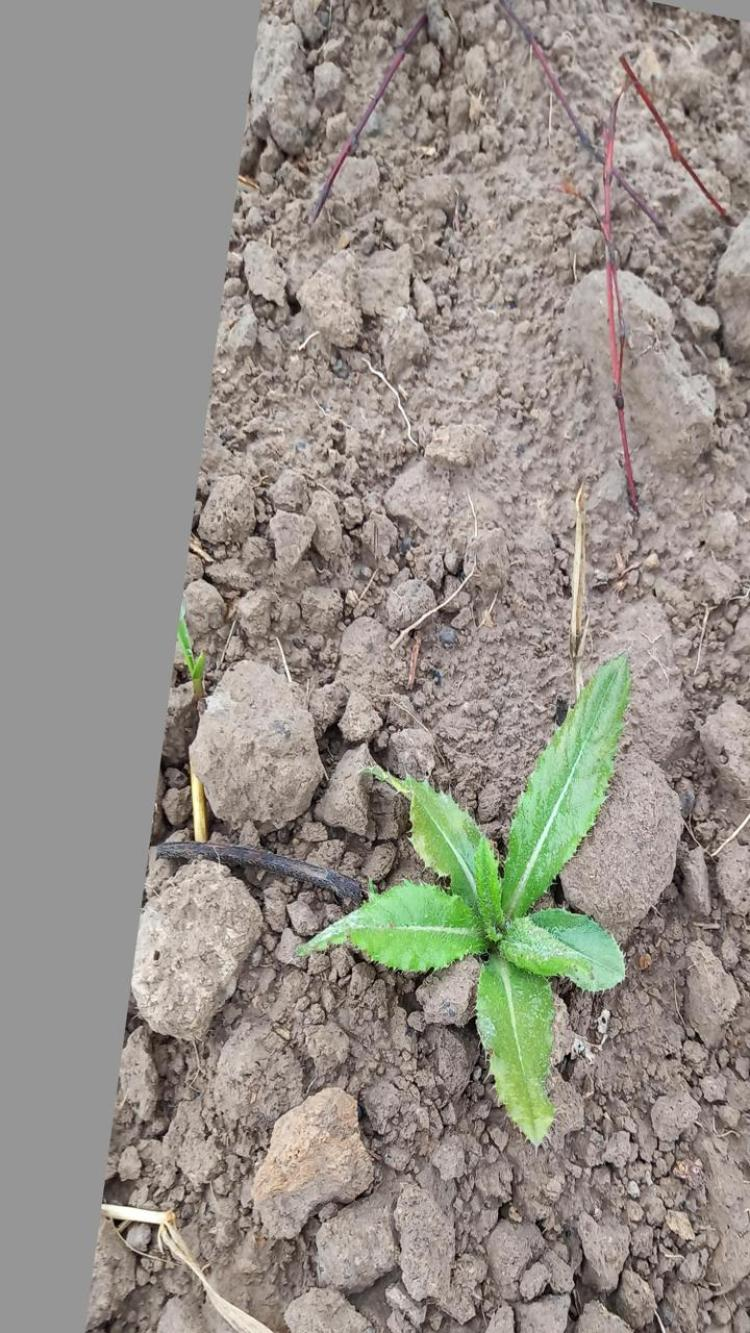bodyak: (296, 654, 629, 1150)
